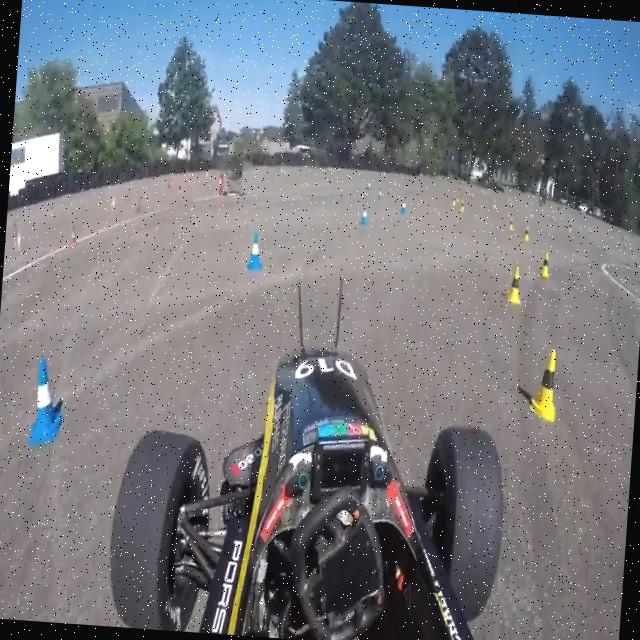blue_cone: (21, 357, 66, 442), (245, 233, 264, 270), (357, 203, 372, 239), (397, 196, 410, 219)
yellow_cone: (530, 342, 566, 432), (508, 260, 526, 308), (537, 247, 550, 278)
